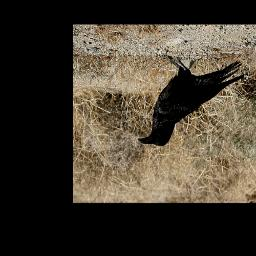Crow: (137, 55, 245, 147)
